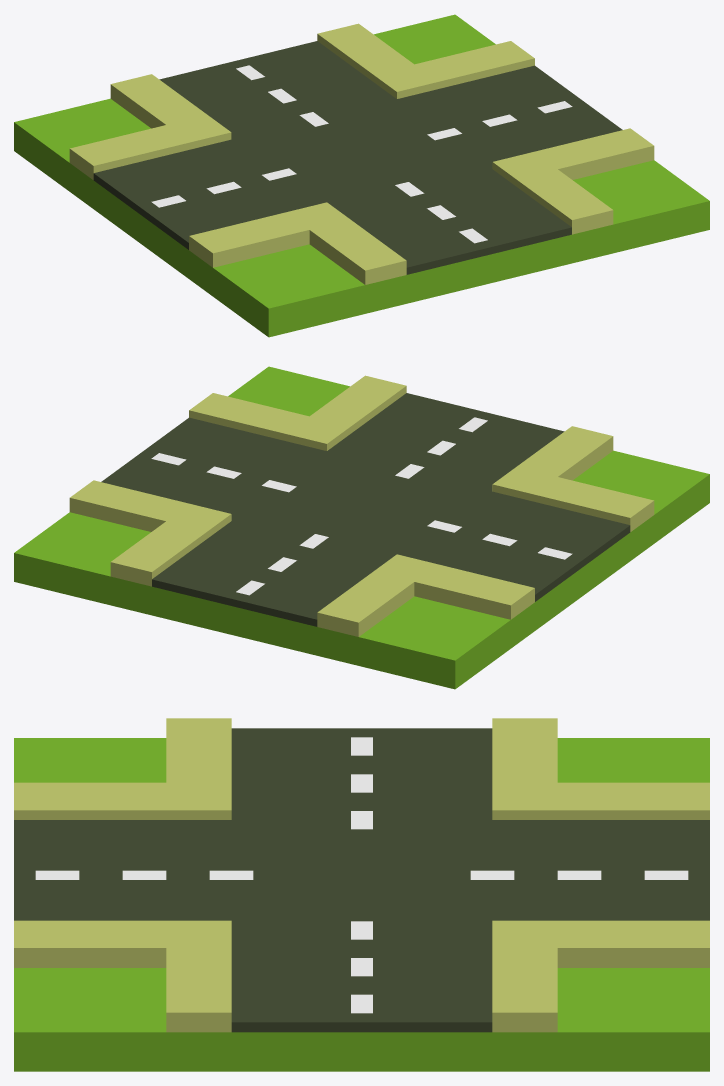
Rendered from Cross.obj.
3 renders of one model, top to bottom at view 1: azimuth 30°, elevation 25°; view 2: azimuth 150°, elevation 25°; view 3: azimuth 270°, elevation 25°, orthographic. The views are drawn at different scales.
Size of the model in its own units: 6.4 by 0.6 by 6.4.
Materials: 1 (1 with a texture image).
